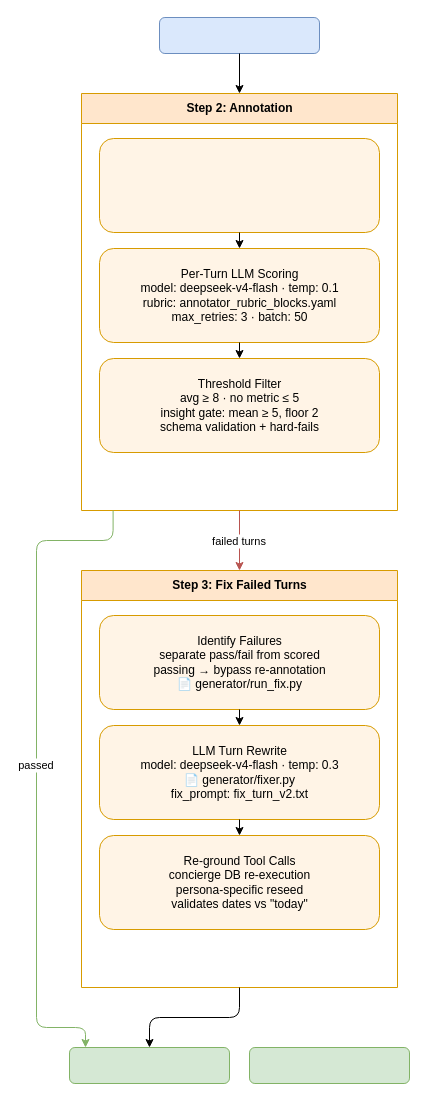
Image size: 427x1101. Some labels were removed from this diagram. The box of each missing label's shape, as (x1, y1, x2, y2) in pixels:
Deduplication normalise_speakable remove_truncated 📄 annotator/dedup.py: (98, 138, 380, 232)
multi_turn_scored.json: (248, 1046, 410, 1084)
output/final/multi_turn.json: (68, 1046, 230, 1084)
output/raw/multi_turn.json: (158, 16, 320, 54)
